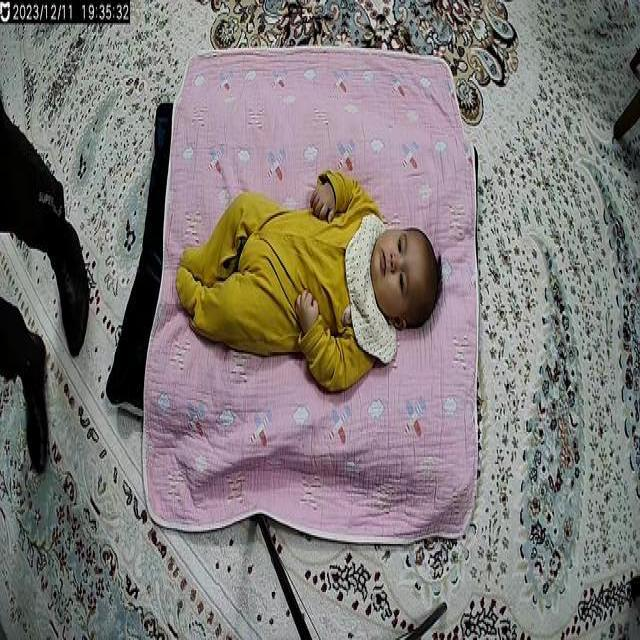baby: (173, 166, 444, 399)
